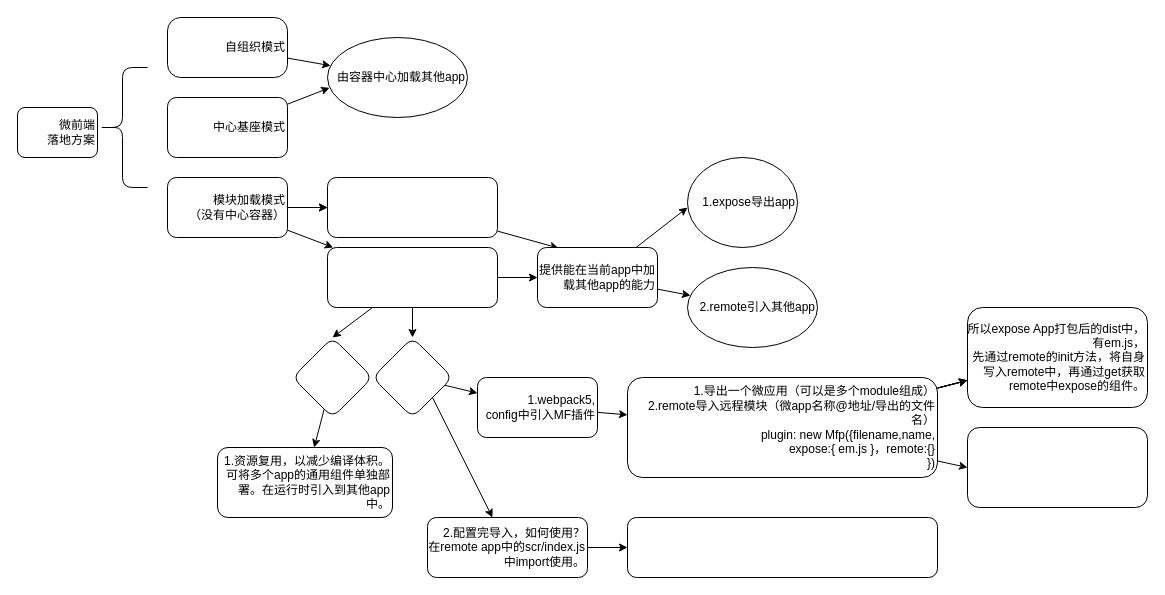
Image size: 1165x595. Some labels were removed from this diagram. The shapes that lost their labels are listed below. From the top down, each one's centre as x and y in pixels, then its label:
At point 412,207: "任意一个app可以作为入口， 无相互依赖，独立部署的app合并成一个".
At point 412,277: "2020年10月webpack5带来了module federation(模块联邦MF)".
At point 332,377: "好处".
At point 412,377: "how to use".
At point 1057,467: "所以remote App打包后的dist中，有bundle.js，里有promise加载了em.js的 URL路径".
At point 782,547: "import('appone/exposeModule).then(res=>{ res.default('use me'))) 返回的是一个promise".
